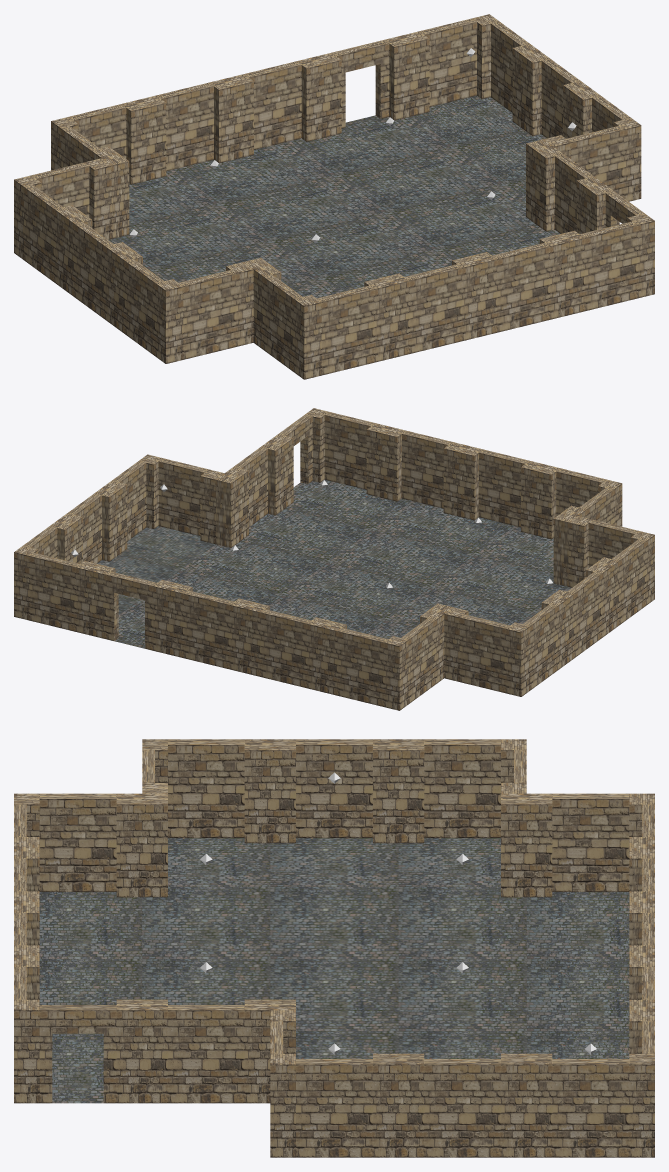
File: 1_minionPuzzle.fbx
The picture shows the model from 3 angles, top to bottom: view 1: azimuth 30°, elevation 25°; view 2: azimuth 150°, elevation 25°; view 3: azimuth 270°, elevation 25°; orthographic projection. The views are drawn at different scales.
Parts seen in each view (by area): view 1: Cube_1, Plane_2; view 2: Cube_1, Plane_2; view 3: Cube_1, Plane_2.
Boxes of the visible parts, <box> form: Cube_1: <box>14,14,654,379</box>; Plane_2: <box>108,95,560,298</box>; Cube_1: <box>14,408,654,710</box>; Plane_2: <box>97,480,571,648</box>; Cube_1: <box>14,739,654,1157</box>; Plane_2: <box>39,838,629,1103</box>.
Bounding box in the file's own units: 60 × 8 × 50.
4 materials, 4 textured.
